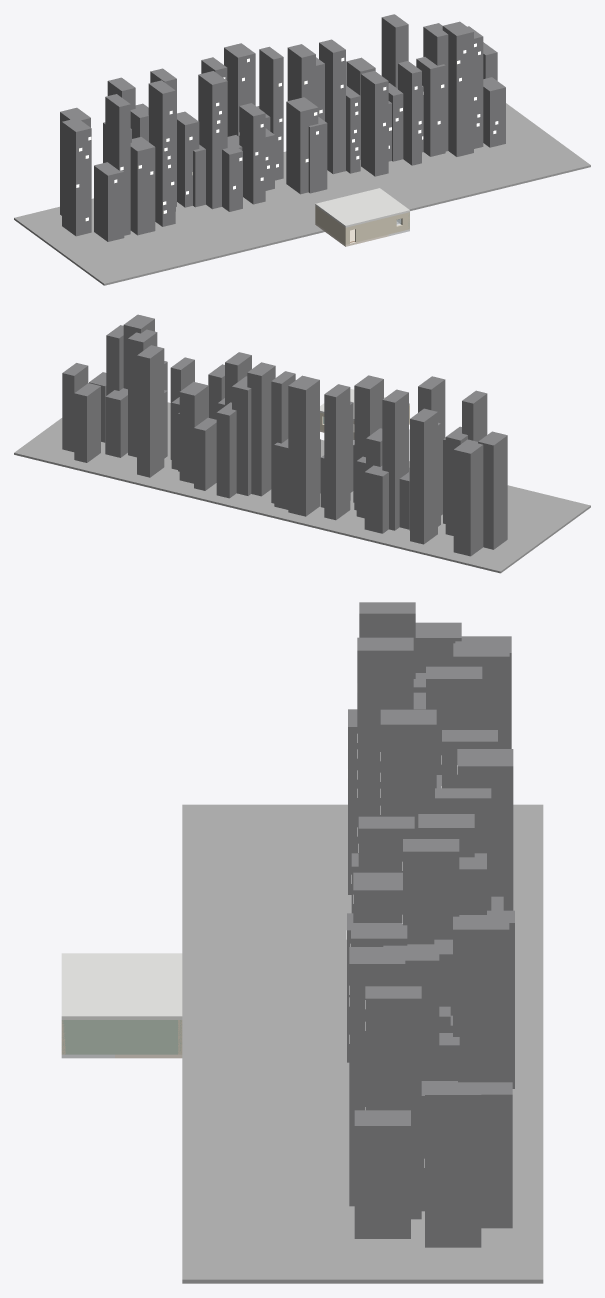
Rendered from apartment.glb.
The picture shows the model from 3 angles, top to bottom: view 1: azimuth 30°, elevation 25°; view 2: azimuth 150°, elevation 25°; view 3: azimuth 270°, elevation 25°; orthographic projection. The views are drawn at different scales.
Parts seen in each view (by area): view 1: apartment_shell; view 2: apartment_shell; view 3: apartment_shell.
Part boxes in pixels (x1,y1,x2,y2): apartment_shell: [14, 14, 590, 285]; apartment_shell: [14, 314, 590, 573]; apartment_shell: [61, 602, 543, 1283].
Bounding box in the file's own units: 80 × 21.42 × 34.3.
